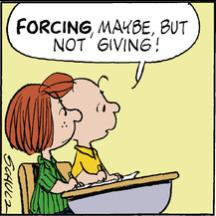charlie: (58, 74, 126, 188)
